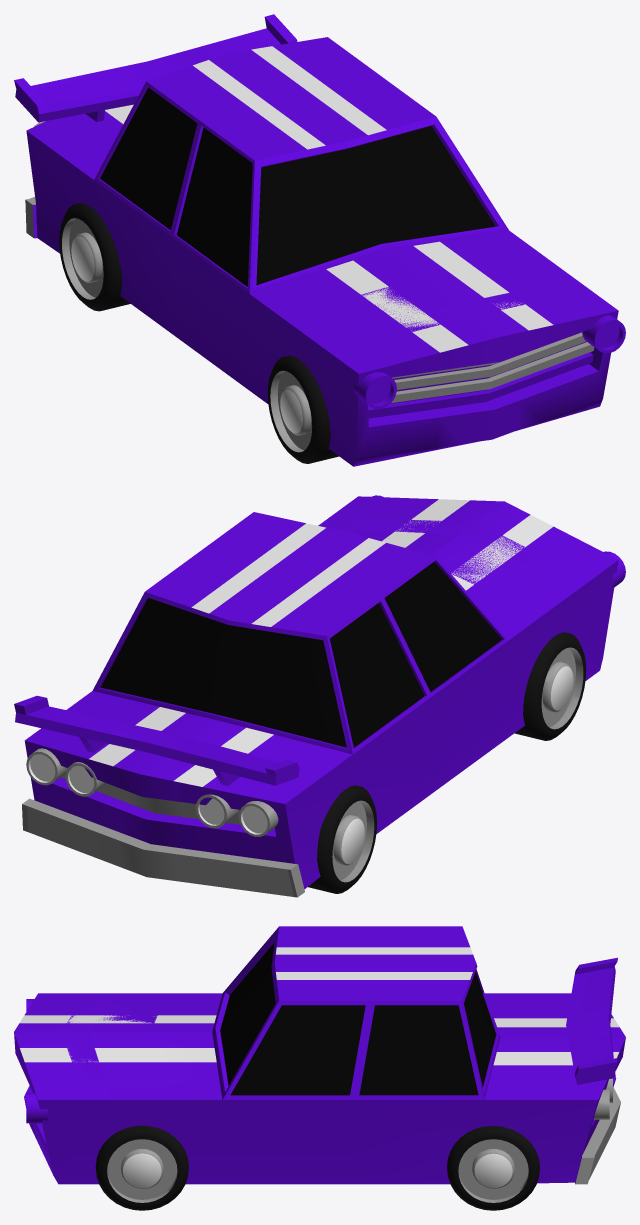
The model's file is first_car.fbx.
3 views of the same model, one above another, from view 1: azimuth 30°, elevation 25°; view 2: azimuth 150°, elevation 25°; view 3: azimuth 270°, elevation 25° (orthographic). The views are drawn at different scales.
Parts seen in each view (by area): view 1: Circle.002; view 2: Circle.002; view 3: Circle.002.
Boxes of the visible parts, <box> form: Circle.002: <box>14,14,625,466</box>; Circle.002: <box>14,495,625,897</box>; Circle.002: <box>14,926,625,1210</box>.
Bounding box in the file's own units: 353 × 284 × 811.
